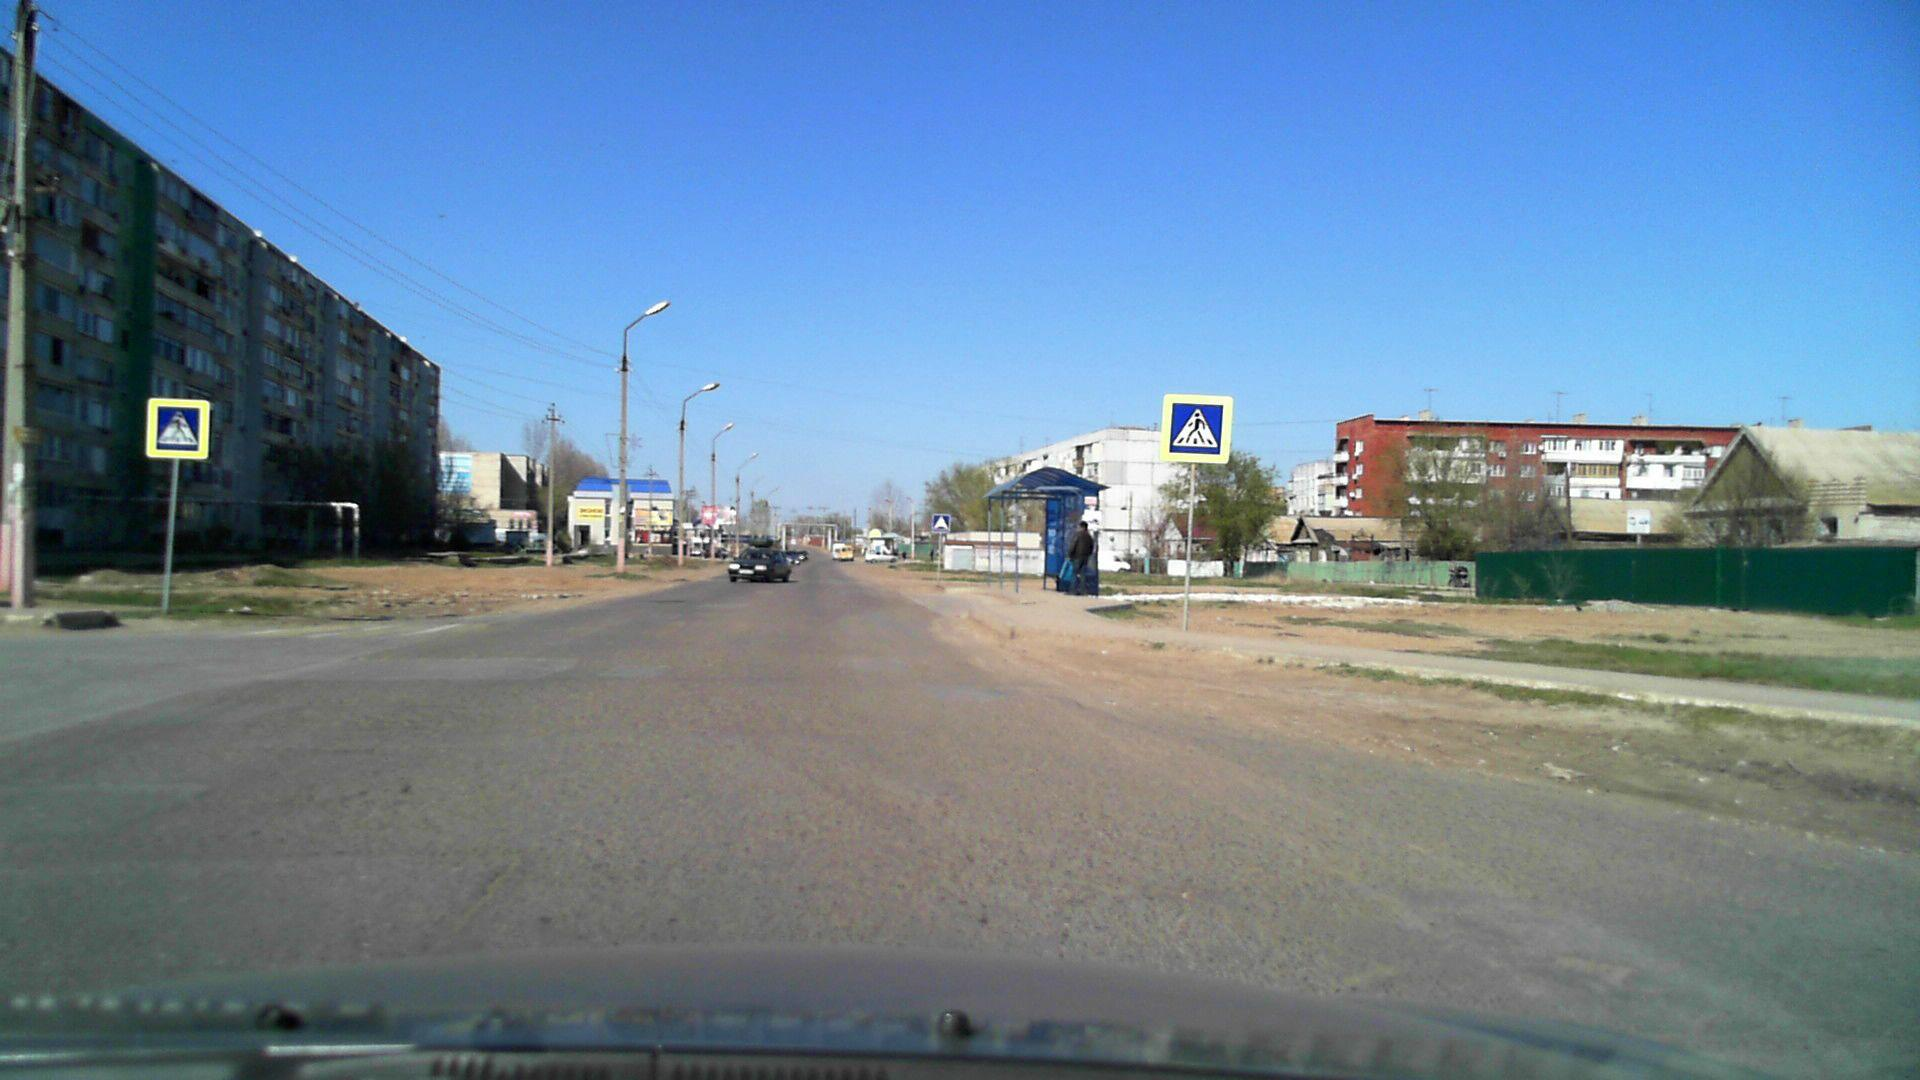5_19_1: (1168, 399, 1223, 456)
5_19_2: (155, 403, 201, 454)
5_20: (932, 513, 949, 534)
